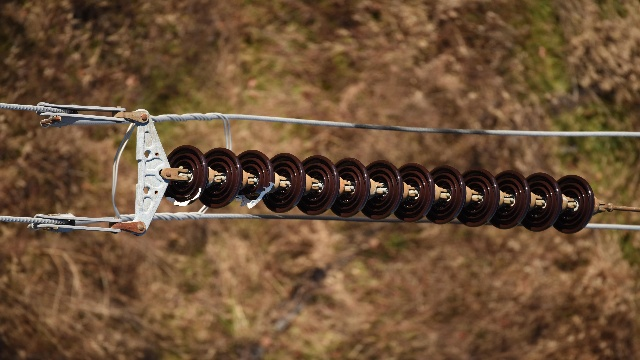broken_local: (234, 179, 276, 210), (165, 185, 205, 208)
insulator_unspecified: (165, 144, 593, 233)
